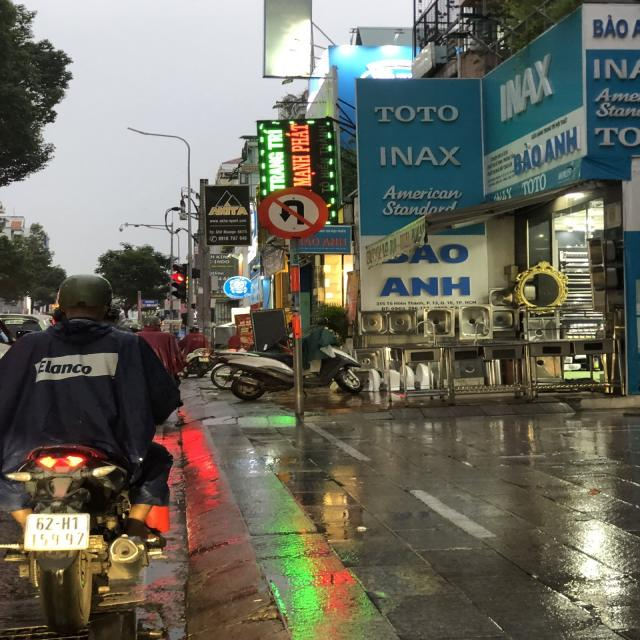Bien bao cam quay dau xe: (256, 186, 330, 242)
